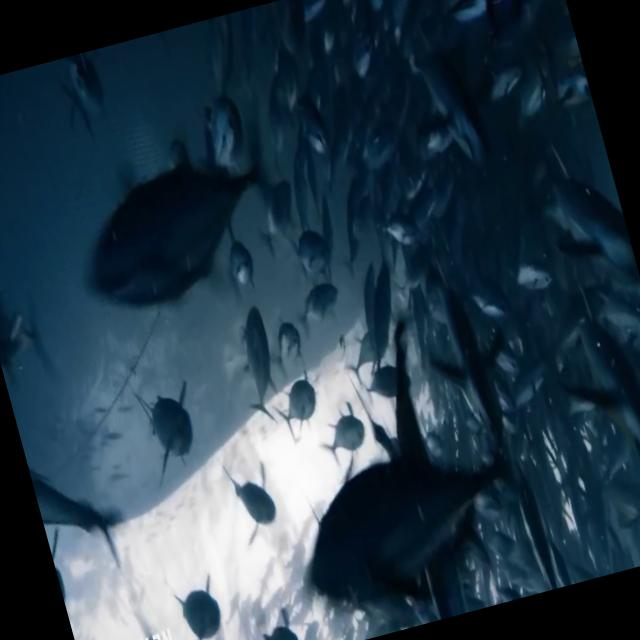fish: (222, 295, 566, 640), (61, 121, 316, 342), (393, 247, 538, 488), (539, 298, 640, 505), (410, 28, 516, 182), (28, 444, 137, 582), (116, 366, 216, 494), (543, 178, 640, 308), (218, 296, 302, 446), (202, 434, 290, 556), (42, 48, 120, 150), (154, 567, 245, 640), (209, 230, 276, 317), (283, 276, 354, 340), (237, 594, 319, 640)
